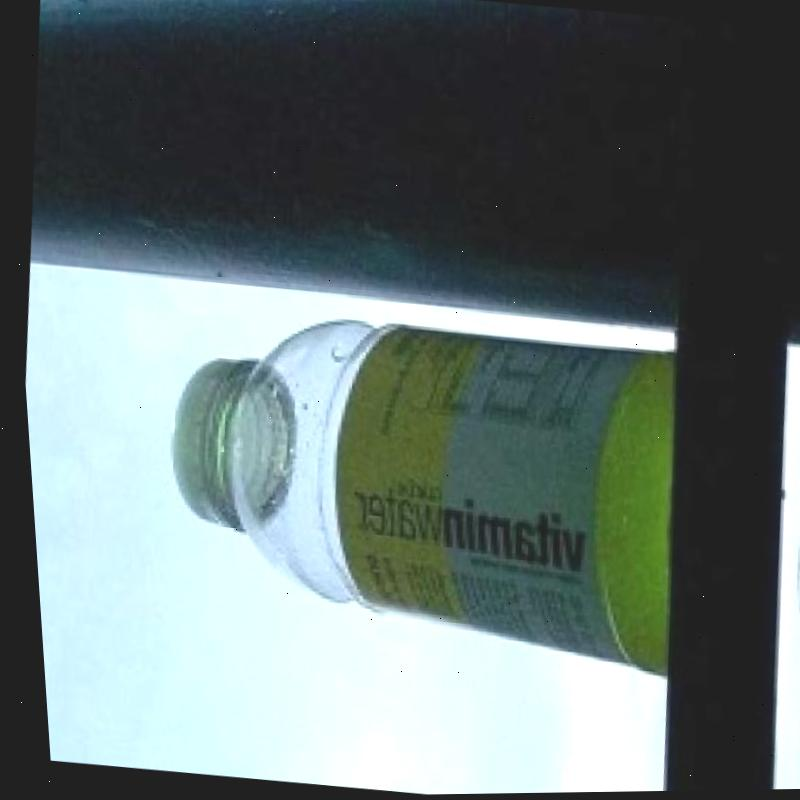botella: (136, 294, 690, 689)
